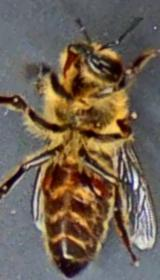varroa_mite: (75, 166, 118, 204), (37, 163, 59, 199)
